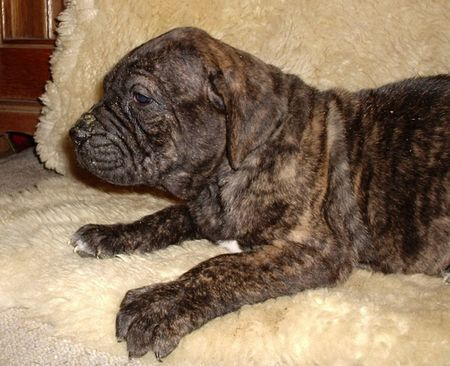fila_brasileiro: (68, 25, 450, 363)
